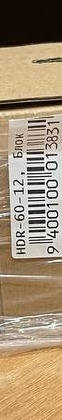1d: (26, 116, 48, 245)
